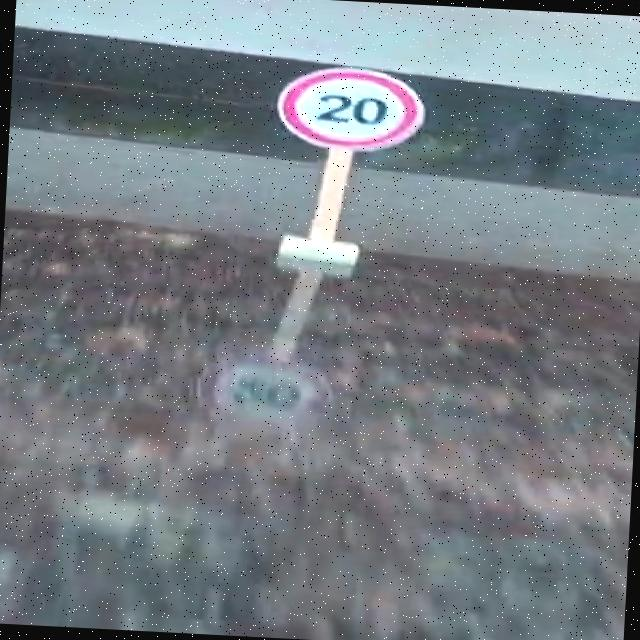Speed20: (264, 57, 438, 164)
